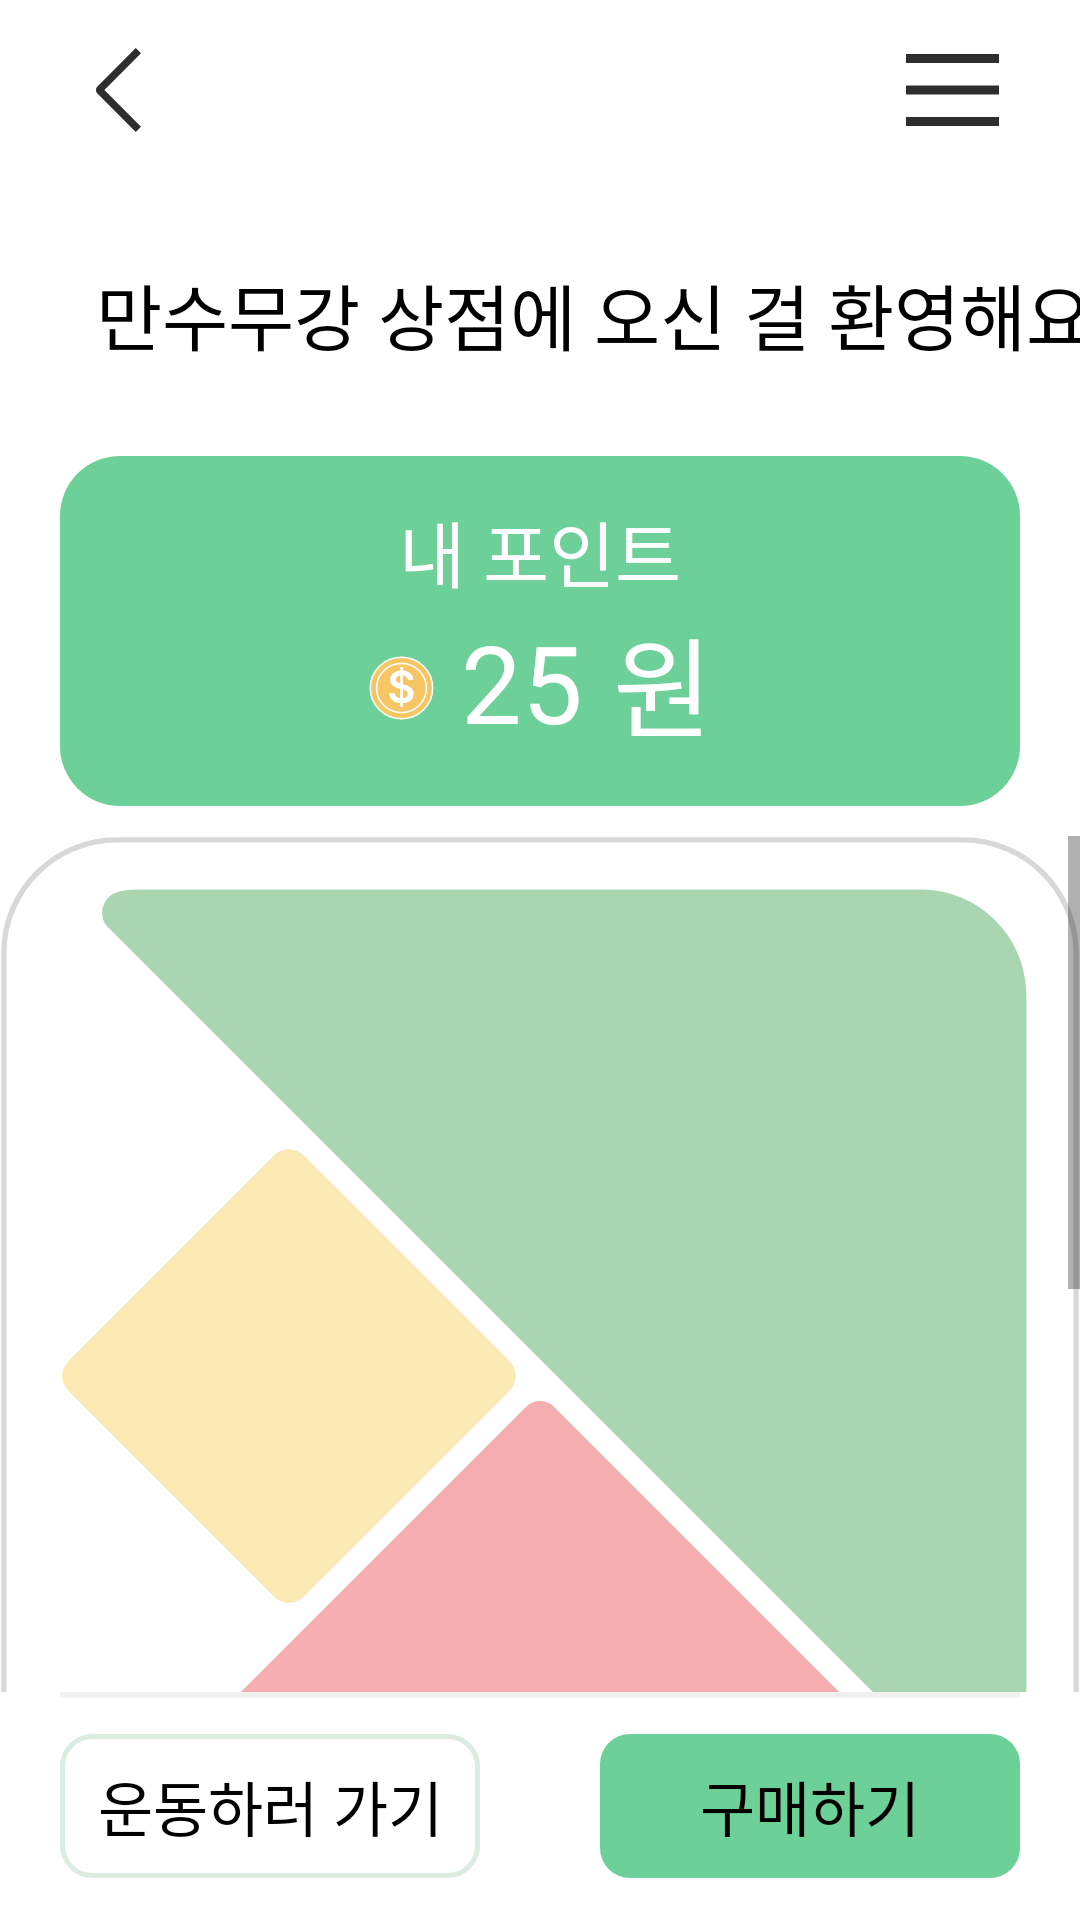

Named icons in this screenshot (1080 × 1920) and their centers, (x=x, y=y):
coin: (x=401, y=688)
menu: (x=952, y=90)
page back: (x=118, y=90)
